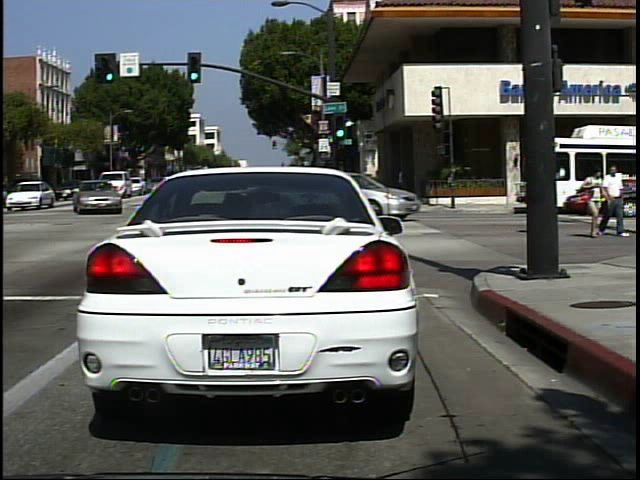person: (602, 163, 628, 242), (582, 162, 608, 240), (526, 166, 547, 237)
